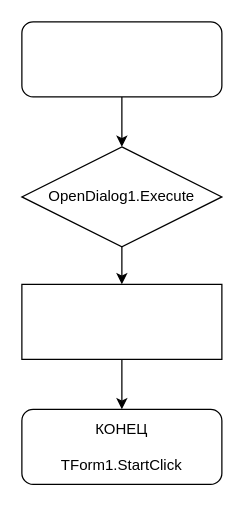
This 244x506 diagram has some shape labels left out. The centre of each missing label's shape, as x and y in pixels:
"path:= OpenDialog1.FileName;" goes at [121,321].
"TForm1.ChooseClick НАЧАЛО" goes at [121,59].
